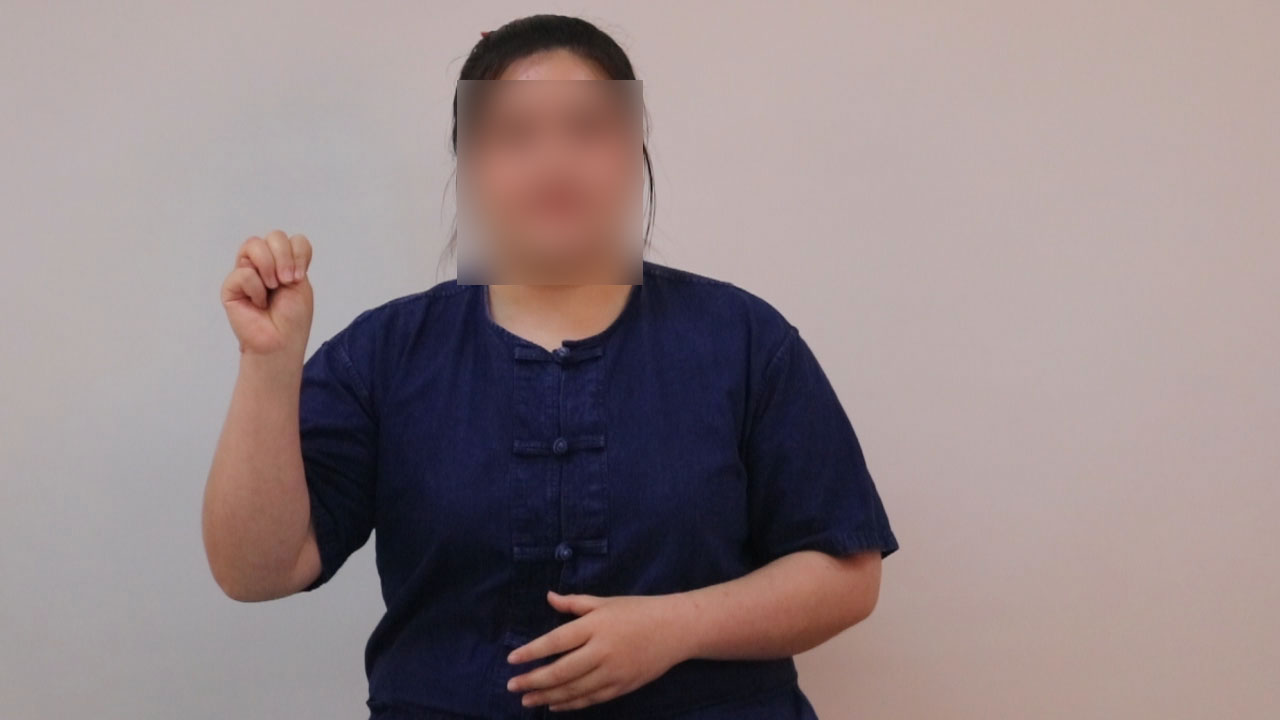mor: (205, 214, 329, 371)
